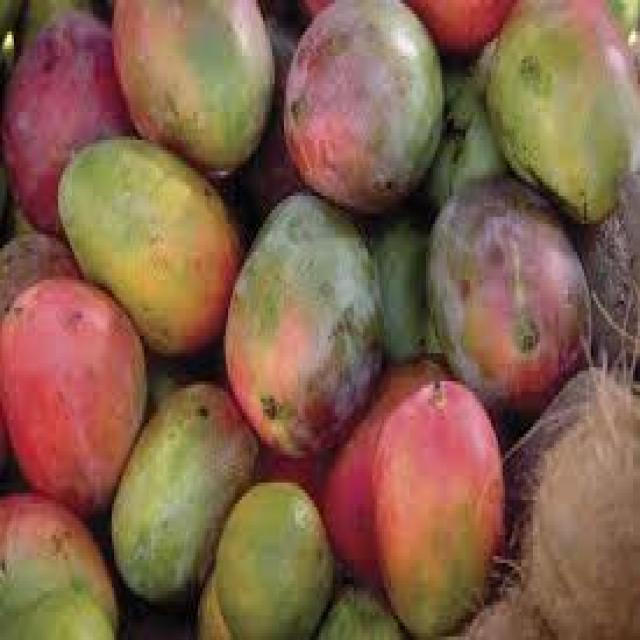organic waste: (216, 178, 382, 462), (58, 136, 252, 354), (421, 168, 591, 409), (368, 378, 505, 636), (105, 381, 265, 595), (282, 0, 438, 217), (0, 276, 149, 493), (2, 7, 135, 245), (488, 0, 638, 210), (521, 374, 638, 637), (109, 0, 269, 178), (209, 479, 333, 637), (0, 489, 119, 636), (414, 56, 505, 210), (580, 164, 638, 396), (0, 228, 84, 304), (396, 0, 526, 49), (316, 580, 409, 636), (466, 591, 563, 637)
